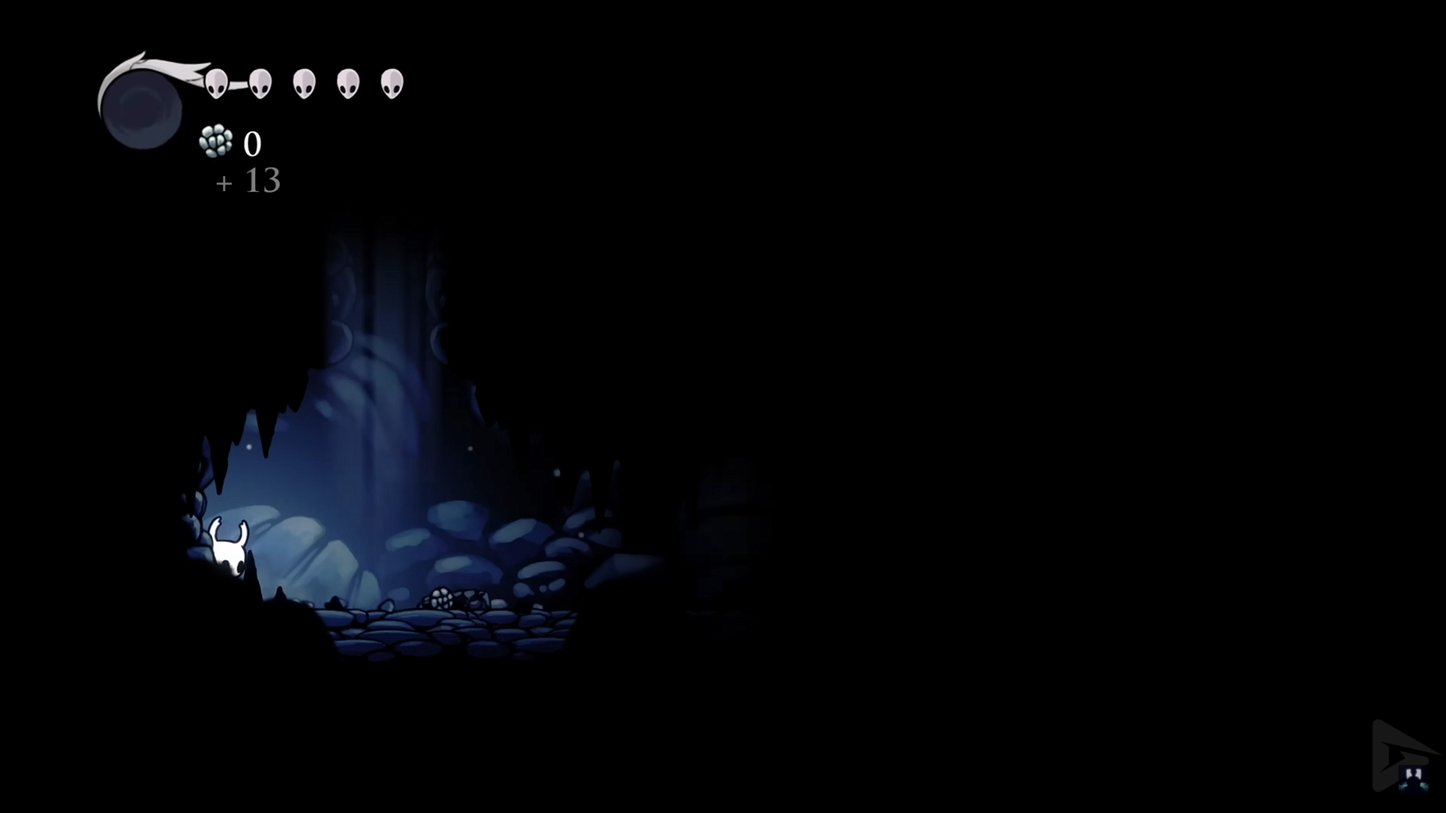HK: (206, 511, 251, 601)
